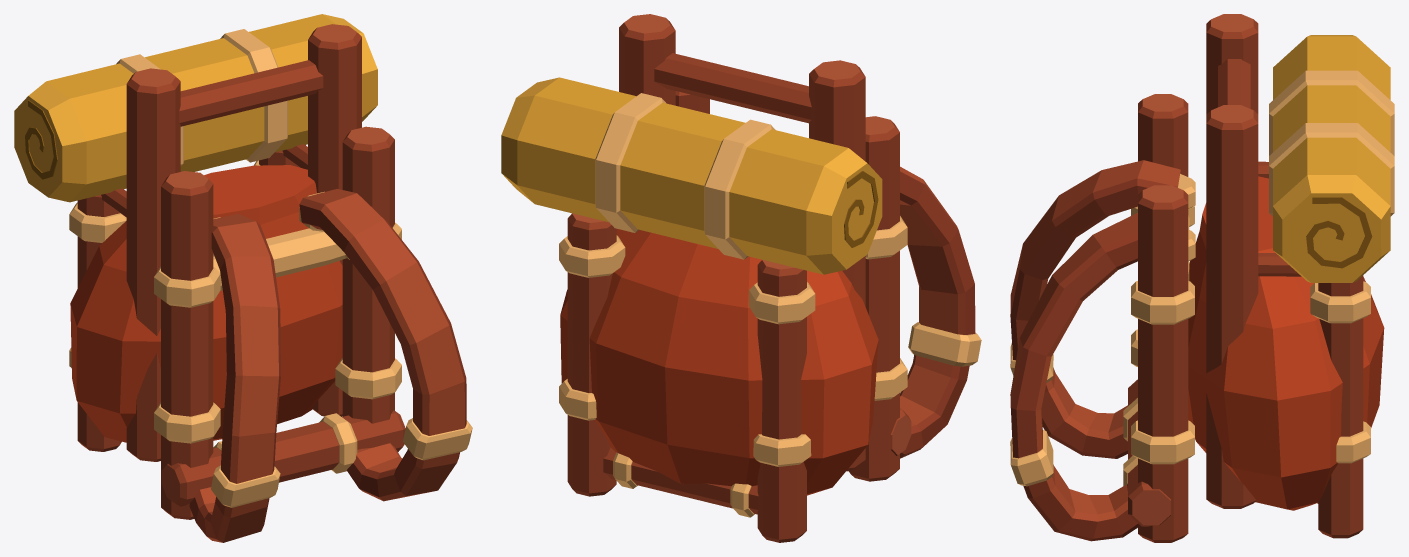
The model's file is wooden_frame_backpack.glb.
3 renders of one model, left to right at view 1: azimuth 30°, elevation 25°; view 2: azimuth 150°, elevation 25°; view 3: azimuth 270°, elevation 25°, orthographic. The views are drawn at different scales.
Parts seen in each view (by area): view 1: Гранёный вещевой мешок, Скатка, Плечевая лямка.R, Плечевая лямка.L, Наружная стойка.L, Высокая стойка.L, Наружная стойка.R, Высокая стойка.R, Нижняя перекладина, Верхняя перекладина, Светлая перемычка рамы, Перевязь скатки.001 (+10 smaller); view 2: Гранёный вещевой мешок, Скатка, Плечевая лямка.L, Грузовая стойка.L, Наружная стойка.L, Грузовая стойка.R, Верхняя перекладина, Высокая стойка.L, Высокая стойка.R, Перевязь скатки, Перевязь скатки.001, Нижняя грузовая перекладина (+11 smaller); view 3: Гранёный вещевой мешок, Скатка, Высокая стойка.R, Плечевая лямка.R, Наружная стойка.R, Плечевая лямка.L, Грузовая стойка.R, Наружная стойка.L, Высокая стойка.L, Перевязь скатки.001, Перевязь скатки, Нижняя перекладина (+8 smaller).
Boxes of the visible parts, <box> form: Гранёный вещевой мешок: <box>70,165,342,442</box>; Скатка: <box>14,14,377,202</box>; Плечевая лямка.R: <box>299,189,466,501</box>; Плечевая лямка.L: <box>189,213,280,542</box>; Наружная стойка.L: <box>161,171,213,519</box>; Высокая стойка.L: <box>126,68,180,461</box>; Наружная стойка.R: <box>342,126,394,423</box>; Высокая стойка.R: <box>308,24,361,416</box>; Нижняя перекладина: <box>161,410,405,506</box>; Верхняя перекладина: <box>179,60,323,126</box>; Светлая перемычка рамы: <box>213,228,346,290</box>; Перевязь скатки.001: <box>220,29,287,162</box>; Гранёный вещевой мешок: <box>560,229,878,495</box>; Скатка: <box>501,77,882,274</box>; Плечевая лямка.L: <box>900,166,975,458</box>; Грузовая стойка.L: <box>757,259,806,542</box>; Наружная стойка.L: <box>849,116,899,481</box>; Грузовая стойка.R: <box>567,213,616,496</box>; Верхняя перекладина: <box>654,53,811,123</box>; Высокая стойка.L: <box>809,60,865,471</box>; Высокая стойка.R: <box>619,14,675,105</box>; Перевязь скатки: <box>704,119,775,259</box>; Перевязь скатки.001: <box>595,93,666,232</box>; Нижняя грузовая перекладина: <box>603,447,758,514</box>; Гранёный вещевой мешок: <box>1188,176,1384,510</box>; Скатка: <box>1273,35,1390,282</box>; Высокая стойка.R: <box>1206,105,1258,508</box>; Плечевая лямка.R: <box>1010,213,1138,541</box>; Наружная стойка.R: <box>1138,185,1188,542</box>; Плечевая лямка.L: <box>1010,160,1180,458</box>; Грузовая стойка.R: <box>1318,275,1363,538</box>; Наружная стойка.L: <box>1138,94,1188,176</box>; Высокая стойка.L: <box>1206,14,1258,114</box>; Перевязь скатки.001: <box>1269,123,1394,216</box>; Перевязь скатки: <box>1269,70,1394,155</box>; Нижняя перекладина: <box>1128,379,1171,526</box>.
Bounding box in the file's own units: 0.804 × 0.9938 × 0.8198.
